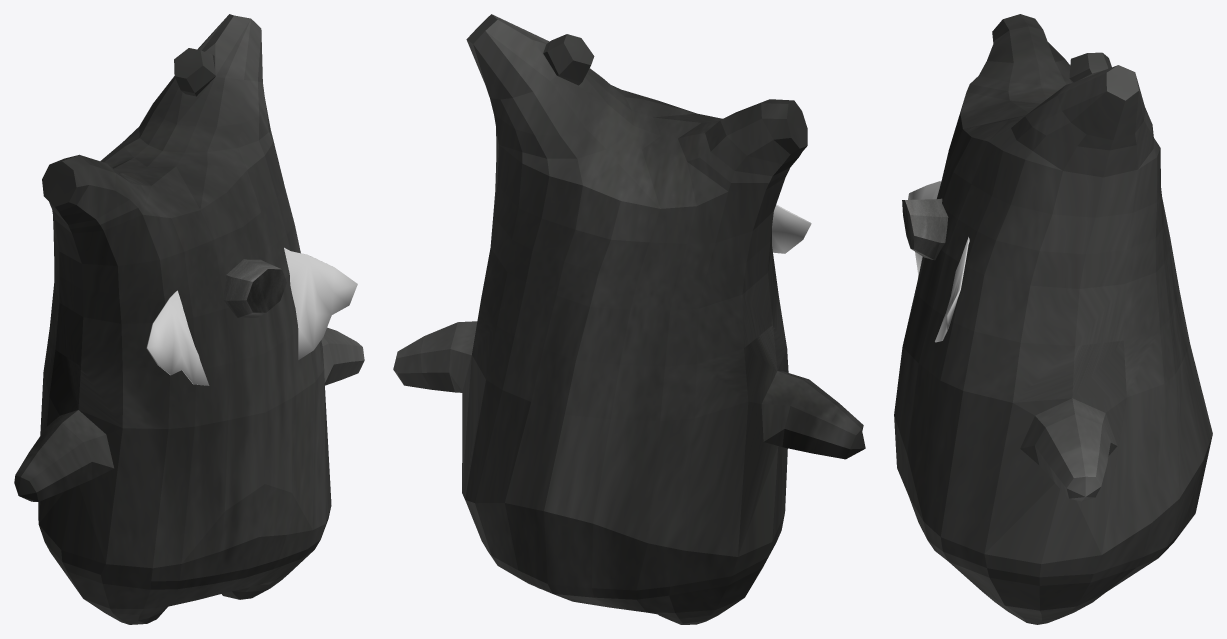
File: frame_0032.obj
3 renders of one model, left to right at view 1: azimuth 30°, elevation 25°; view 2: azimuth 150°, elevation 25°; view 3: azimuth 270°, elevation 25°, orthographic. The views are drawn at different scales.
Parts seen in each view (by area): view 1: korok, leaf, nose; view 2: korok, leaf; view 3: korok, nose, leaf.
Boxes of the visible parts, x1,y1,x2,y2 form: korok: (14,14,364,624); leaf: (146,247,357,385); nose: (223,259,286,317); korok: (393,14,865,624); leaf: (772,204,811,253); korok: (894,14,1212,624); nose: (902,198,948,259); leaf: (908,181,969,342).
Size of the model in its own units: 1.71 by 2.3 by 1.16.
